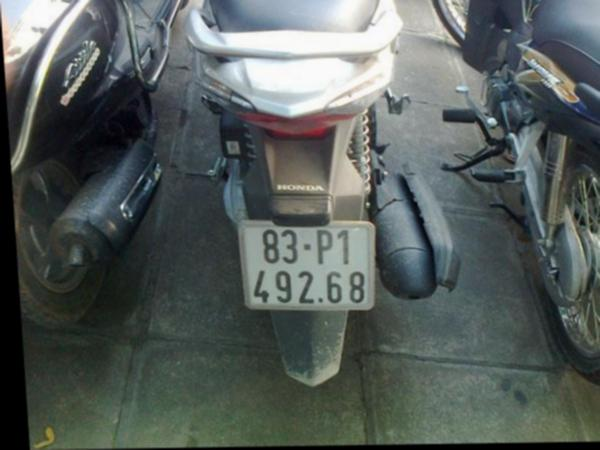License_Plate: (237, 215, 381, 314)
